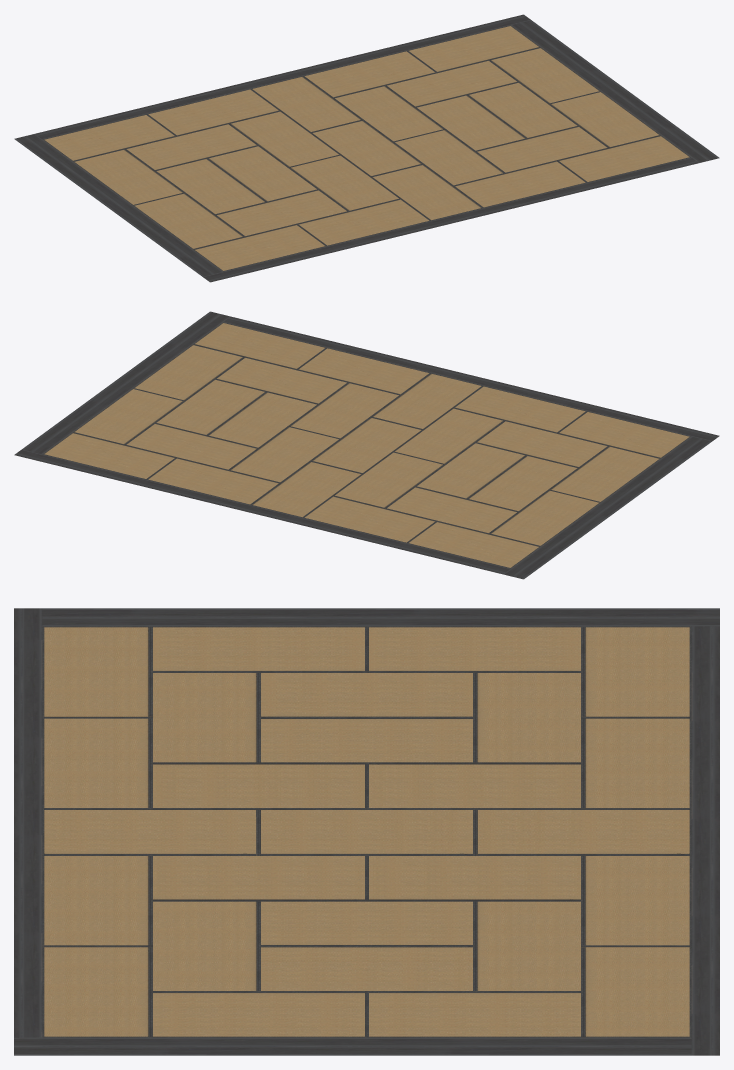
The model's file is Homeworld_Interior_Dq_Room_B_Floor_01_Vo.fbx.
3 views of the same model, one above another, from view 1: azimuth 30°, elevation 25°; view 2: azimuth 150°, elevation 25°; view 3: azimuth 270°, elevation 25° (orthographic). The views are drawn at different scales.
Parts seen in each view (by area): view 1: Homeworld_Interior_Dq_Room_B_Floor_01_Vo; view 2: Homeworld_Interior_Dq_Room_B_Floor_01_Vo; view 3: Homeworld_Interior_Dq_Room_B_Floor_01_Vo.
Part boxes in pixels (box(x1,y1,x2,y2)): Homeworld_Interior_Dq_Room_B_Floor_01_Vo: box(14, 14, 719, 282); Homeworld_Interior_Dq_Room_B_Floor_01_Vo: box(14, 311, 719, 579); Homeworld_Interior_Dq_Room_B_Floor_01_Vo: box(14, 608, 719, 1055).
Bounding box in the file's own units: 15 × 4.37e-07 × 10.
